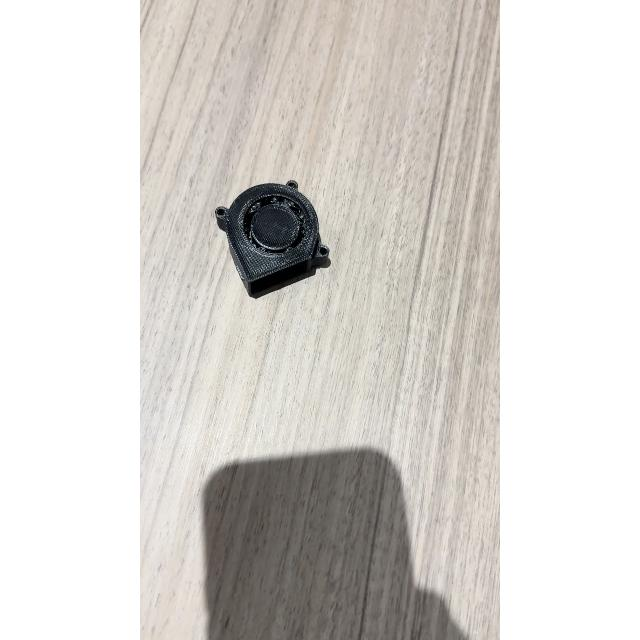Pieza_3: (210, 171, 342, 307)
